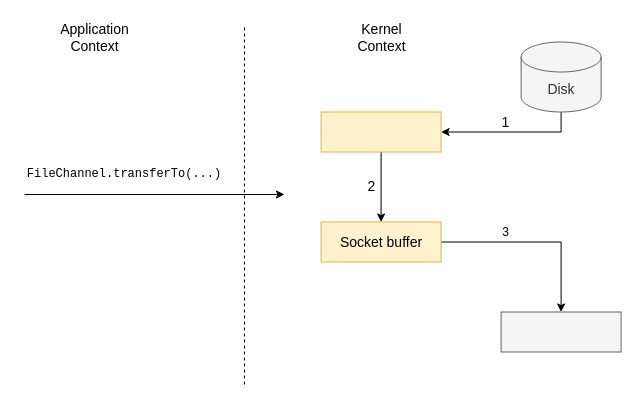
This 639x403 diagram has some shape labels left out. The shapes that lost their labels are listed below. From the top down, each one's box as (x1, y1, x2, y2) in pixels, then its label:
(320, 111, 441, 152): Read buffer
(500, 311, 621, 352): NIC buffer
